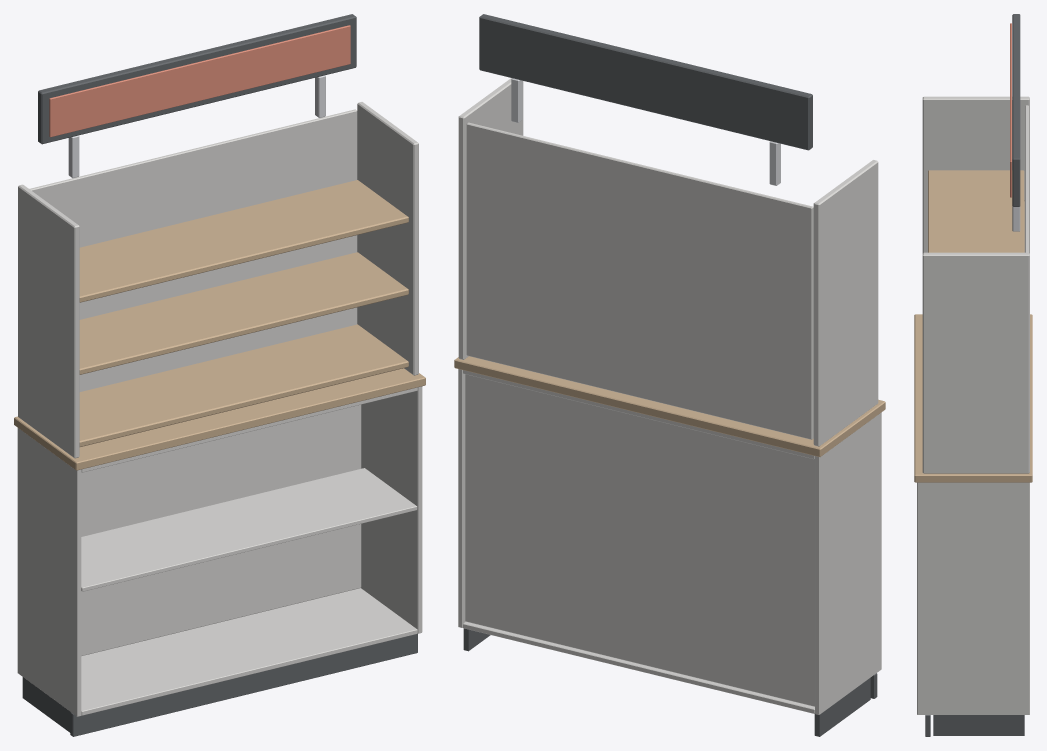
The model's file is SM_Retail_25317_CashDeskBackFixture.fbx.
3 views of the same model, side by side, from view 1: azimuth 30°, elevation 25°; view 2: azimuth 150°, elevation 25°; view 3: azimuth 270°, elevation 25° (orthographic). The views are drawn at different scales.
Parts seen in each view (by area): view 1: SM_Retail_25317_CashDeskBackFixture; view 2: SM_Retail_25317_CashDeskBackFixture; view 3: SM_Retail_25317_CashDeskBackFixture.
Boxes of the visible parts, left/top/right/bottom form: SM_Retail_25317_CashDeskBackFixture: left=14, top=14, right=425, bottom=736; SM_Retail_25317_CashDeskBackFixture: left=454, top=14, right=885, bottom=736; SM_Retail_25317_CashDeskBackFixture: left=914, top=14, right=1032, bottom=736.
Size of the model in its own units: 142 by 44 by 235.
